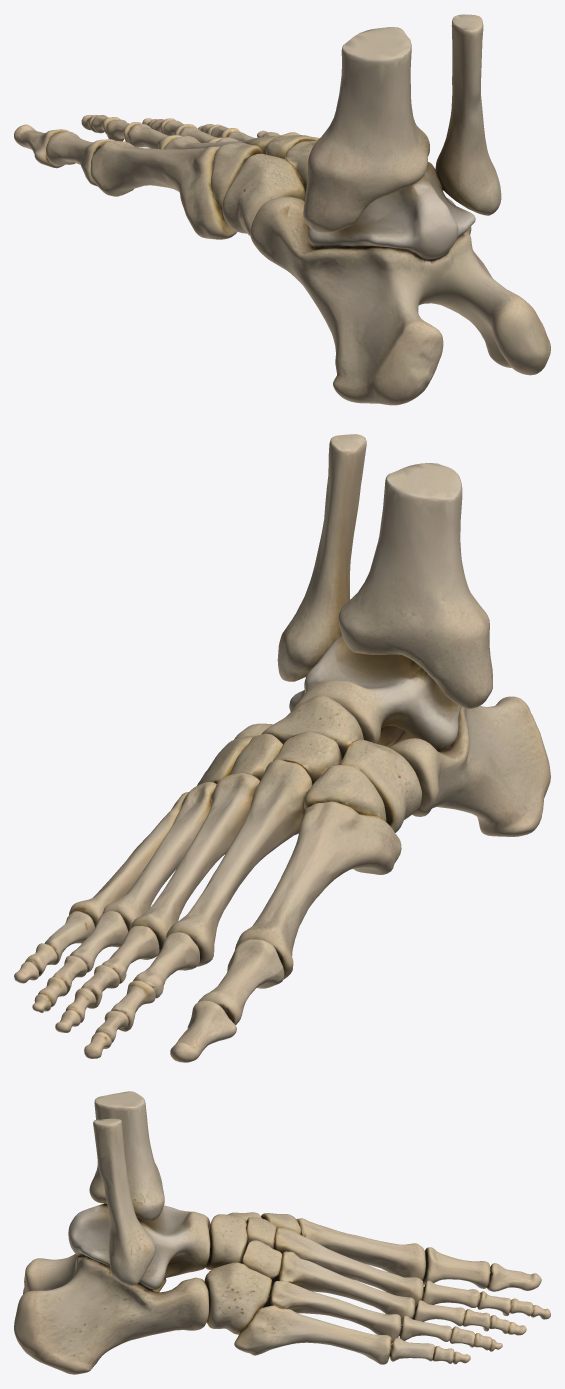
Rendered from foot.glb.
3 views of the same model, one above another, from view 1: azimuth 30°, elevation 25°; view 2: azimuth 150°, elevation 25°; view 3: azimuth 270°, elevation 25° (orthographic). The views are drawn at different scales.
Parts seen in each view (by area): view 1: tripo_node_896bbee1-c261-456a-a543-41a8007085a1; view 2: tripo_node_896bbee1-c261-456a-a543-41a8007085a1; view 3: tripo_node_896bbee1-c261-456a-a543-41a8007085a1.
Boxes of the visible parts, <box> form: tripo_node_896bbee1-c261-456a-a543-41a8007085a1: <box>14,14,550,405</box>; tripo_node_896bbee1-c261-456a-a543-41a8007085a1: <box>14,434,550,1062</box>; tripo_node_896bbee1-c261-456a-a543-41a8007085a1: <box>14,1091,550,1374</box>.
Bounding box in the file's own units: 0.346 × 0.4964 × 0.9999.
1 material, 1 textured.
